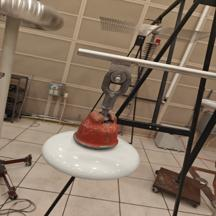insulator: (40, 106, 145, 186)
